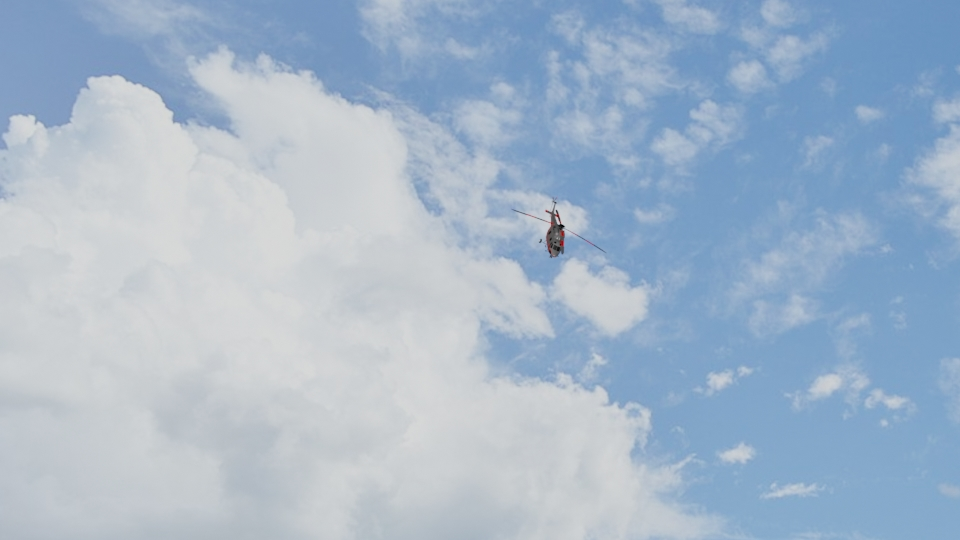heli: (511, 198, 609, 256)
